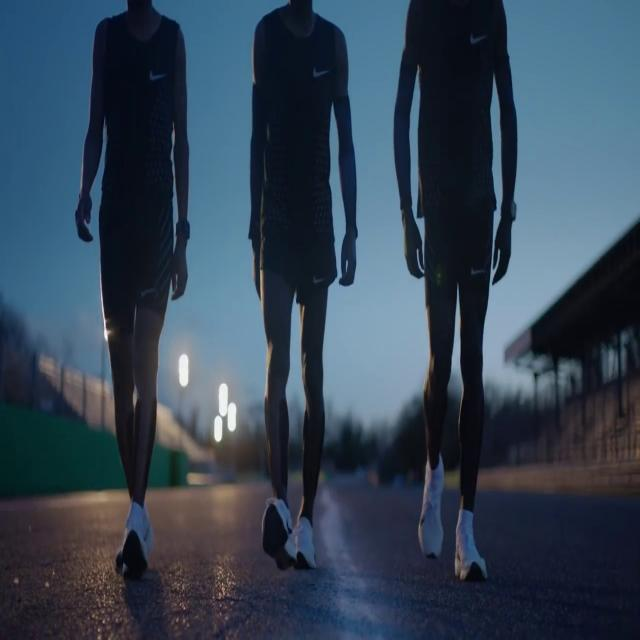standing: (391, 0, 519, 581), (245, 0, 360, 578), (74, 0, 188, 580)
